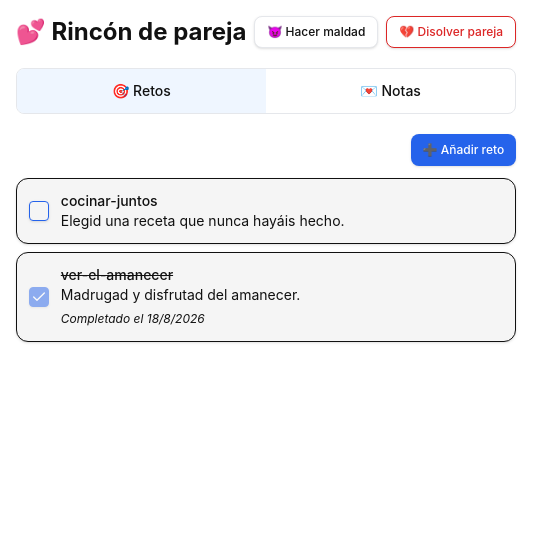
RomanticView — Añadir reto (catálogo) › filtra del catálogo los retos ya añadidos a la pareja
The image size is (534, 554).
Click the button with aria-label "añadir reto del catálogo" at (463, 150), box top-left (410, 134), bottom-right (516, 166)
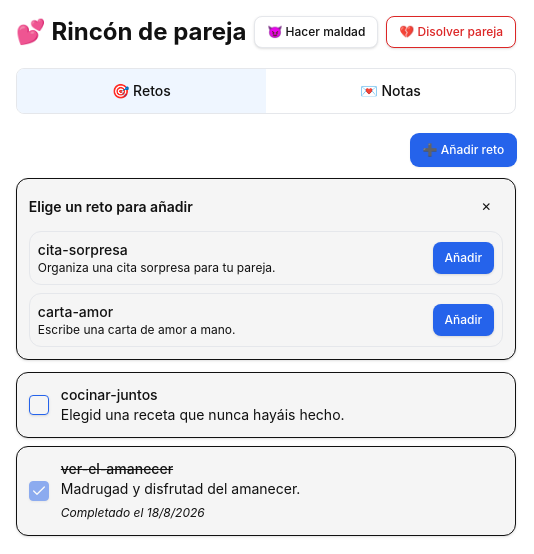
Expected: the text "cita-sorpresa" is shown, top-left (38, 241), bottom-right (128, 258)
Expected: the text "carta-amor" is shown, top-left (38, 303), bottom-right (113, 320)
